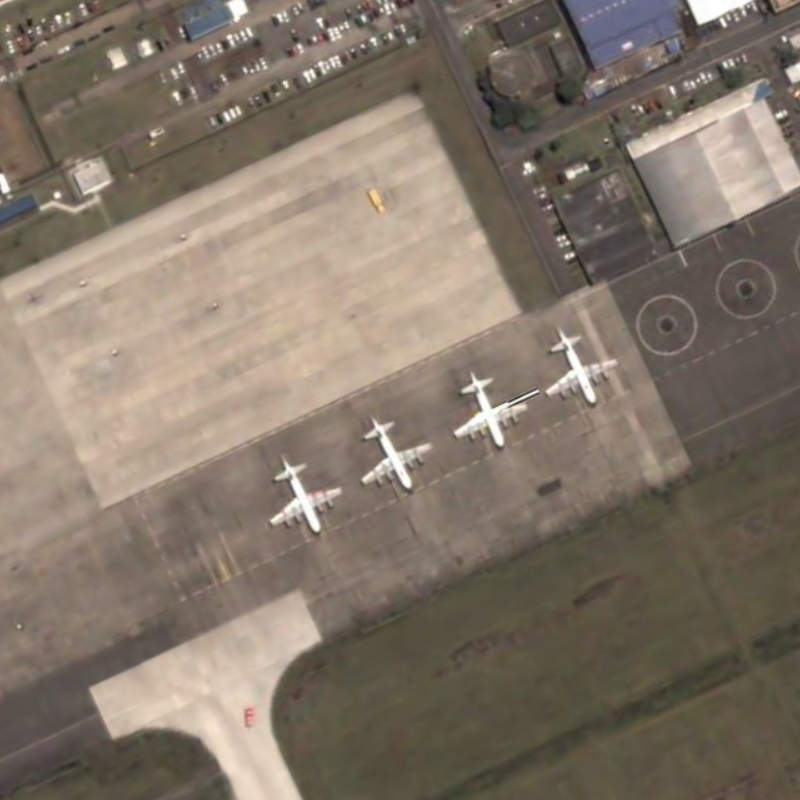A9: (265, 441, 347, 544), (543, 317, 628, 413), (356, 401, 434, 499), (448, 370, 531, 456)
